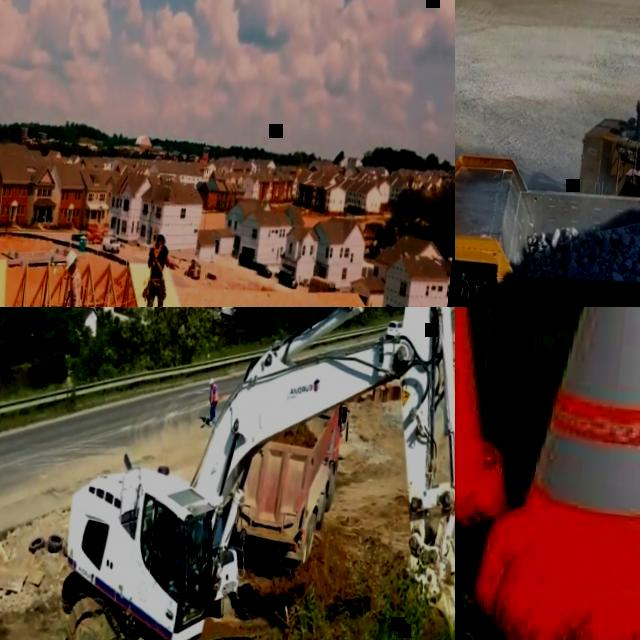helmet: (66, 250, 80, 271), (158, 230, 168, 243), (210, 378, 216, 384)
machinery: (49, 307, 455, 640), (455, 142, 640, 307), (230, 390, 352, 580), (558, 74, 640, 307), (86, 226, 105, 246)
no_mask: (70, 269, 75, 276)
no_vest: (152, 244, 168, 280), (159, 538, 171, 562)
person: (140, 228, 175, 307), (156, 520, 196, 579), (54, 250, 90, 307), (206, 377, 222, 427)
safety_cone: (466, 307, 640, 640), (455, 307, 546, 546)
vehicle: (278, 269, 300, 289), (102, 234, 122, 253), (239, 252, 258, 269), (256, 262, 274, 278)
vest: (212, 383, 220, 405)
